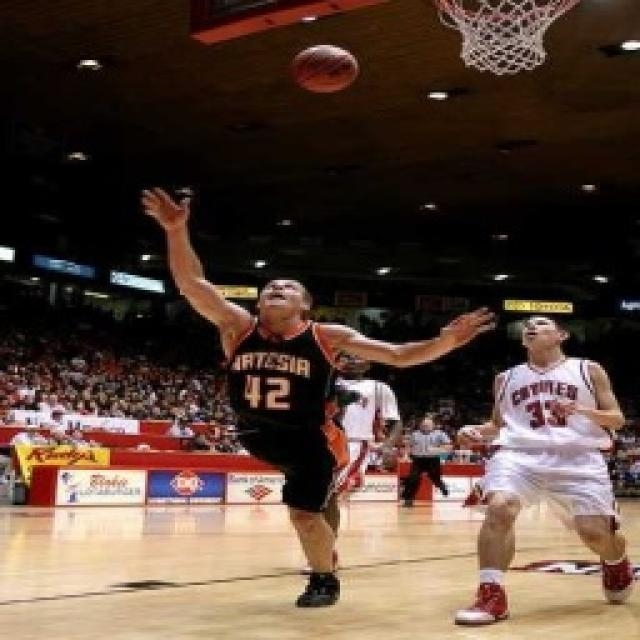rim: (280, 38, 366, 102)
